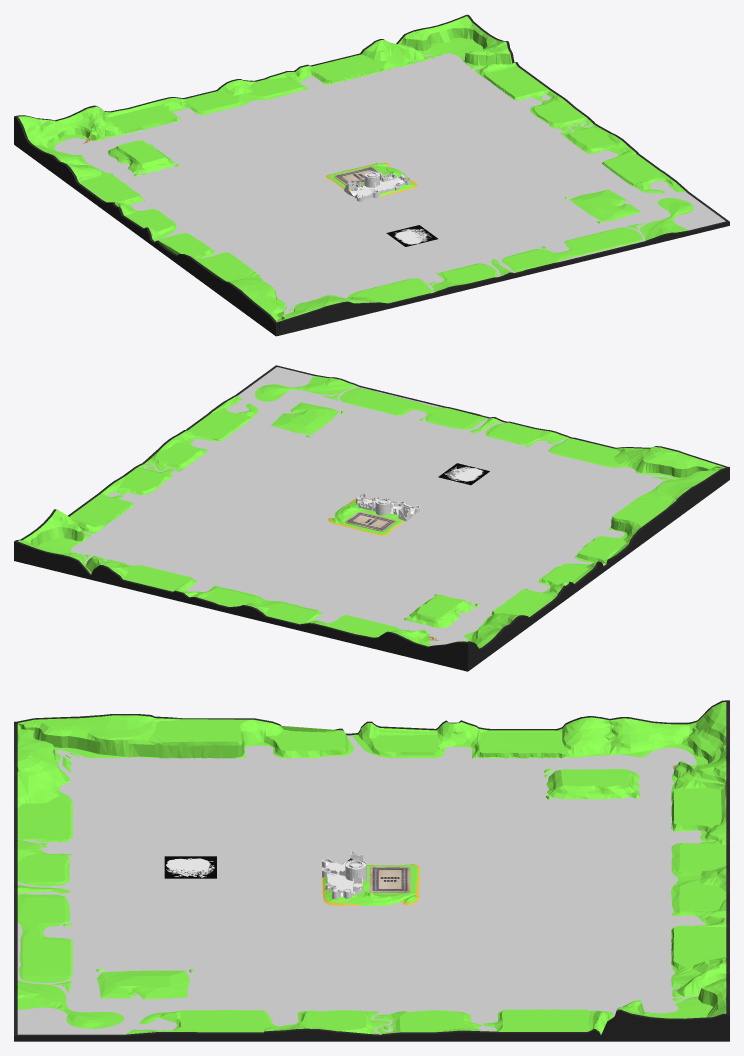
The model's file is AllIslands.PJB.gltf.
3 renders of one model, top to bottom at view 1: azimuth 30°, elevation 25°; view 2: azimuth 150°, elevation 25°; view 3: azimuth 270°, elevation 25°, orthographic. The views are drawn at different scales.
Parts seen in each view (by area): view 1: Sea, EdgeIslands, Frame, Castle, Splash; view 2: Sea, EdgeIslands, Frame, Castle, Splash, Card; view 3: Sea, EdgeIslands, Frame, Castle, Splash, Card.
Boxes of the visible parts, left/top/right/bottom form: Sea: left=54, top=53, right=725, bottom=314; EdgeIslands: left=18, top=16, right=693, bottom=322; Frame: left=14, top=14, right=729, bottom=336; Castle: left=344, top=171, right=409, bottom=201; Splash: left=386, top=225, right=437, bottom=246; Sea: left=71, top=367, right=674, bottom=645; EdgeIslands: left=18, top=376, right=725, bottom=648; Frame: left=14, top=365, right=729, bottom=671; Castle: left=356, top=493, right=419, bottom=521; Splash: left=438, top=463, right=489, bottom=485; Card: left=345, top=511, right=396, bottom=531; Sea: left=17, top=735, right=719, bottom=1034; EdgeIslands: left=17, top=702, right=726, bottom=1034; Frame: left=14, top=700, right=729, bottom=1041; Castle: left=322, top=850, right=366, bottom=899; Splash: left=164, top=856, right=216, bottom=878; Card: left=369, top=866, right=410, bottom=892.
Size of the model in its own units: 23.36 by 1.39 by 23.36.
9 materials, 2 textured.
